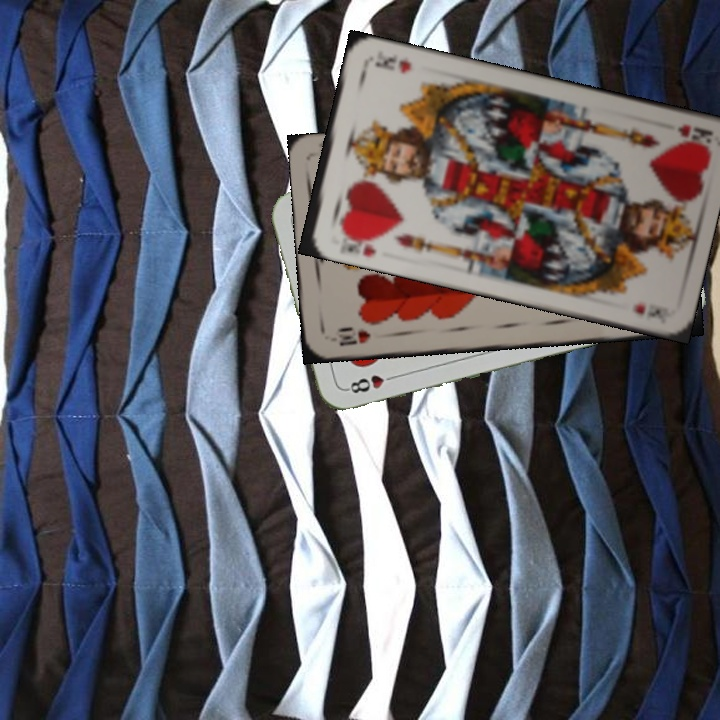H10: (331, 324, 373, 348)
H8: (342, 370, 400, 396)
HK: (337, 226, 382, 260), (673, 121, 711, 148)
